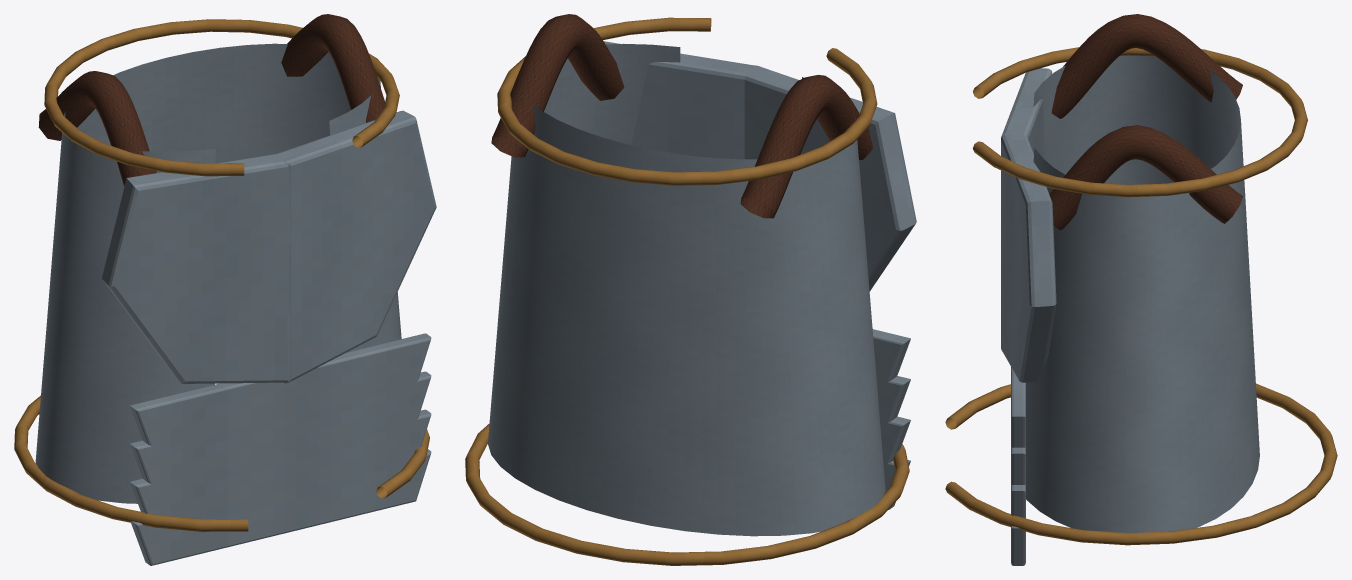
3 renders of one model, left to right at view 1: azimuth 30°, elevation 25°; view 2: azimuth 150°, elevation 25°; view 3: azimuth 270°, elevation 25°, orthographic. The views are drawn at different scales.
Visible parts, largest first — view 1: steel.0, steel.3, steel.5, steel.7, steel.9, steel.8, steel.10, brass.2, leather.6, brass.1, leather.4; view 2: steel.0, steel.5, steel.3, brass.2, brass.1, leather.6, leather.4, steel.7, steel.8, steel.9; view 3: steel.0, steel.5, brass.2, brass.1, leather.4, leather.6, steel.3, steel.7, steel.8, steel.10.
Part boxes in pixels (x1,y1,x2,y2): steel.0: (35, 43, 401, 503); steel.3: (102, 153, 290, 383); steel.5: (274, 110, 436, 383); steel.7: (130, 333, 431, 449); steel.9: (130, 409, 431, 516); steel.8: (130, 371, 431, 487); steel.10: (131, 449, 431, 565); brass.2: (44, 19, 399, 176); leather.6: (281, 14, 384, 122); brass.1: (14, 395, 429, 531); leather.4: (38, 71, 156, 186); steel.0: (488, 43, 885, 536); steel.5: (604, 41, 760, 159); steel.3: (742, 65, 916, 291); brass.2: (497, 17, 877, 185); brass.1: (465, 423, 909, 565); leather.6: (491, 14, 624, 157); leather.4: (740, 75, 872, 218); steel.7: (872, 329, 910, 385); steel.8: (876, 376, 910, 426); steel.9: (880, 416, 910, 466); steel.0: (1026, 55, 1259, 532); steel.5: (1001, 132, 1056, 382); brass.2: (972, 47, 1307, 197); brass.1: (945, 383, 1337, 545); leather.4: (1051, 14, 1242, 118); leather.6: (1049, 125, 1242, 230); steel.3: (1001, 68, 1052, 350); steel.7: (1011, 367, 1025, 447); steel.8: (1011, 447, 1025, 485); steel.10: (1011, 526, 1025, 565).
Bounding box in the file's own units: 0.4957 × 0.58 × 0.4768.
Materials: 3 (3 with a texture image).
